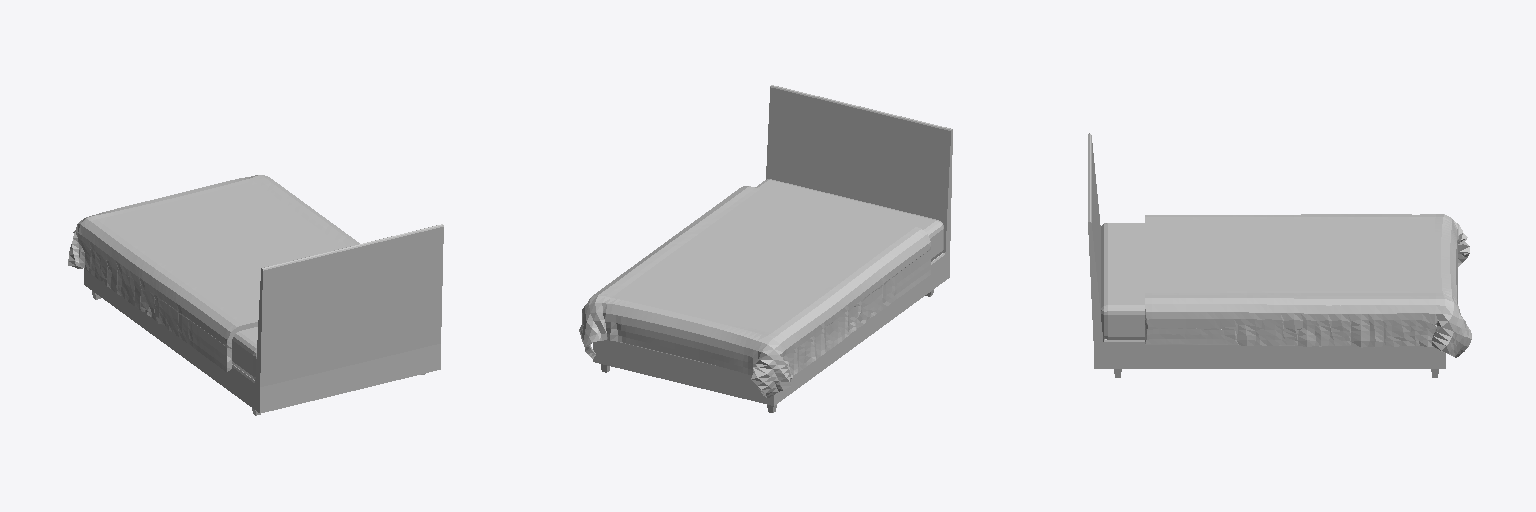
The model's file is bed_model_Fixed.obj.
The picture shows the model from 3 angles: view 1: azimuth 30°, elevation 25°; view 2: azimuth 150°, elevation 25°; view 3: azimuth 270°, elevation 25°; orthographic projection.
Parts seen in each view (by area): view 1: bed_model; view 2: bed_model; view 3: bed_model.
Part boxes in pixels (left/top/right/bottom): bed_model: left=68, top=175, right=443, bottom=415; bed_model: left=579, top=85, right=952, bottom=412; bed_model: left=1088, top=133, right=1471, bottom=377.
Bounding box in the file's own units: 7.59 × 5.43 × 11.94.